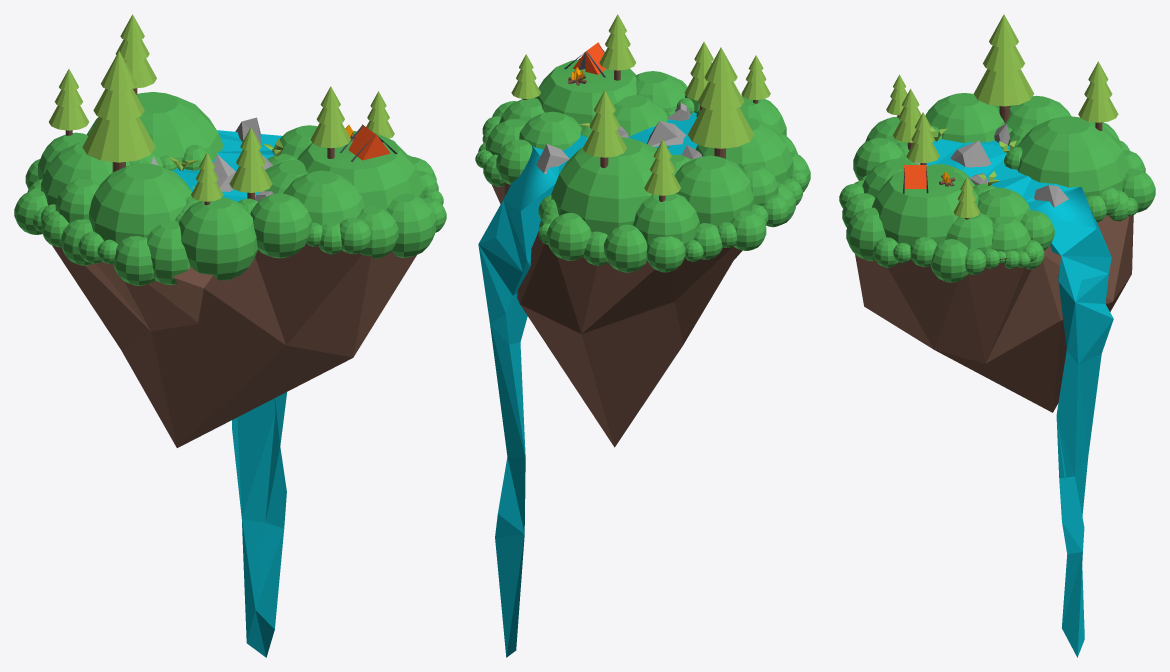
The model's file is Secret Camping spot.gltf.
3 renders of one model, left to right at view 1: azimuth 30°, elevation 25°; view 2: azimuth 150°, elevation 25°; view 3: azimuth 270°, elevation 25°, orthographic. The views are drawn at different scales.
Parts seen in each view (by area): view 1: model064-Mesh, model064-Mesh_2, model064-Mesh_7, model064-Mesh_1, model064-Mesh_3, model064-Mesh_4; view 2: model064-Mesh, model064-Mesh_2, model064-Mesh_1, model064-Mesh_7, model064-Mesh_3, model064-Mesh_4; view 3: model064-Mesh, model064-Mesh_2, model064-Mesh_1, model064-Mesh_7, model064-Mesh_3, model064-Mesh_4.
Part boxes in pixels (x1,y1,x2,y2): model064-Mesh: (14, 92, 446, 285); model064-Mesh_2: (52, 88, 416, 447); model064-Mesh_7: (49, 14, 394, 201); model064-Mesh_1: (171, 130, 286, 657); model064-Mesh_3: (151, 117, 273, 201); model064-Mesh_4: (348, 124, 390, 160); model064-Mesh: (475, 60, 810, 272); model064-Mesh_2: (484, 70, 758, 447); model064-Mesh_1: (478, 112, 697, 657); model064-Mesh_7: (511, 14, 770, 195); model064-Mesh_3: (536, 103, 701, 173); model064-Mesh_4: (573, 42, 606, 74); model064-Mesh: (839, 93, 1155, 282); model064-Mesh_2: (855, 106, 1133, 412); model064-Mesh_1: (926, 139, 1113, 657); model064-Mesh_7: (886, 14, 1118, 217); model064-Mesh_3: (912, 123, 1068, 207); model064-Mesh_4: (903, 165, 926, 188).
Bounding box in the file's own units: 1.01 × 1.86 × 0.9386.
